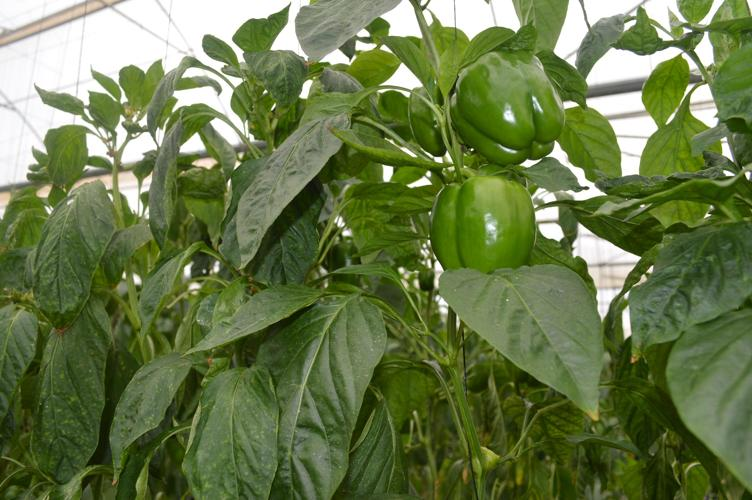BellPepper: (451, 52, 565, 161), (426, 177, 536, 273)
